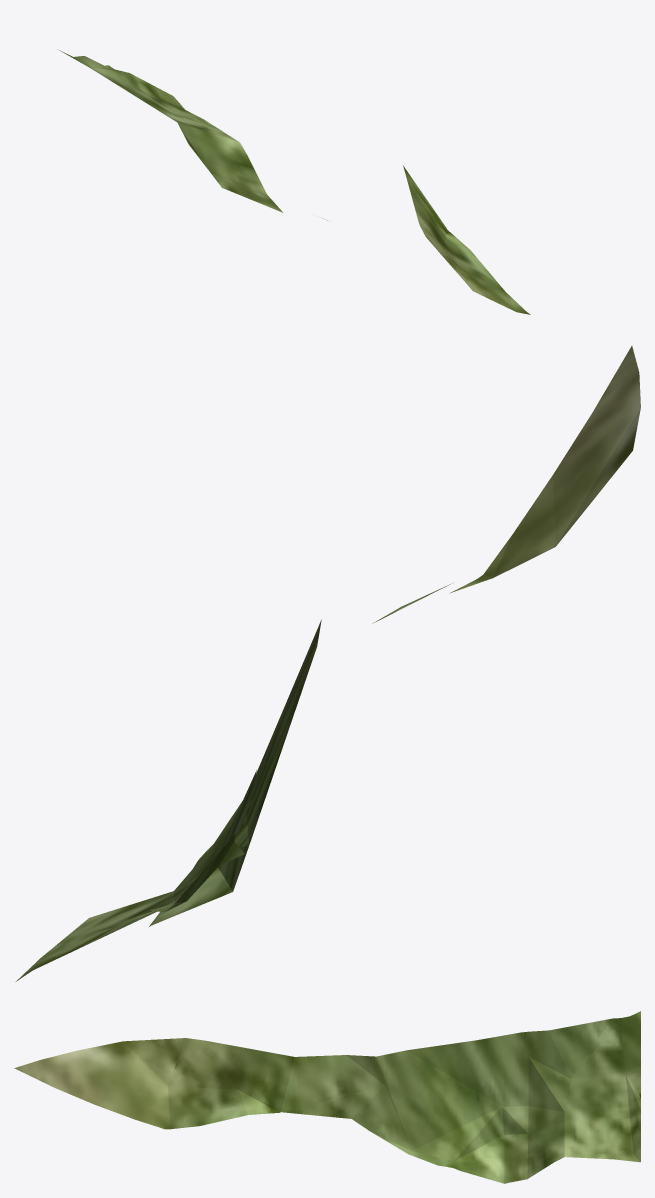
The picture shows the model from 3 angles, top to bottom: view 1: azimuth 30°, elevation 25°; view 2: azimuth 150°, elevation 25°; view 3: azimuth 270°, elevation 25°; orthographic projection. The views are drawn at different scales.
Bounding box in the file's own units: 0.4517 × 0.4265 × 2.09.
Materials: 1 (1 with a texture image).
